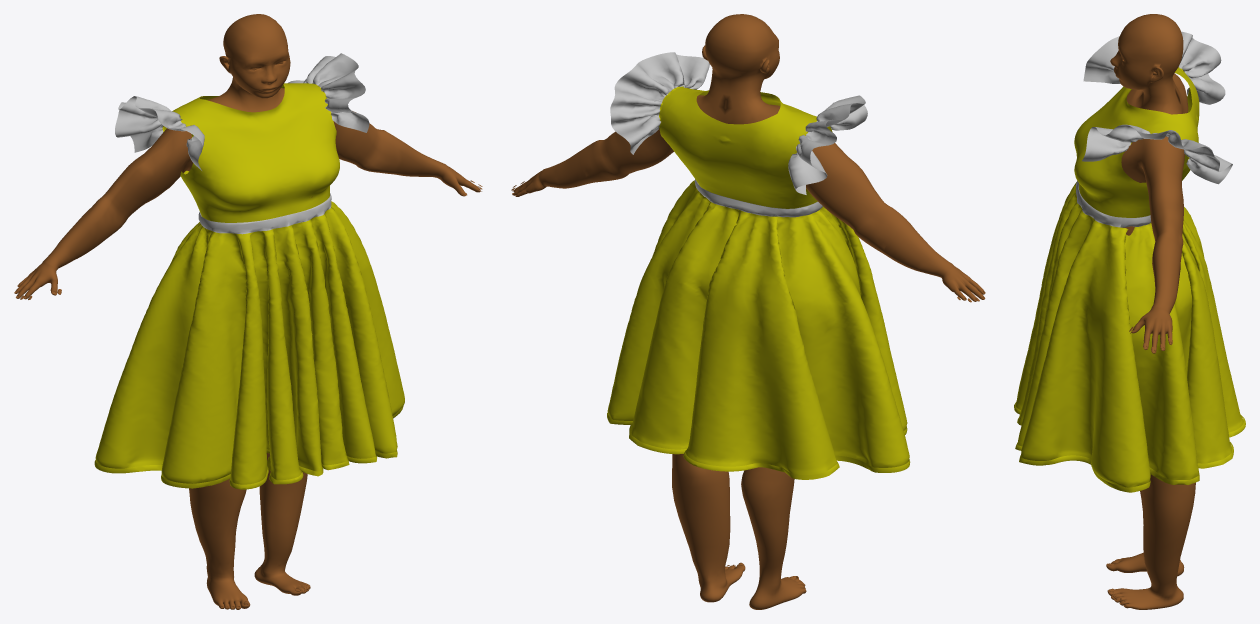
File: dress10.glb
3 renders of one model, left to right at view 1: azimuth 30°, elevation 25°; view 2: azimuth 150°, elevation 25°; view 3: azimuth 270°, elevation 25°, orthographic.
Visible parts, largest first — view 1: PinkDrees#14 (OBJ), Body; view 2: PinkDrees#14 (OBJ), Body; view 3: PinkDrees#14 (OBJ), Body.
Part boxes in pixels (box(x1,y1,x2,y2)): PinkDrees#14 (OBJ): box(94, 53, 404, 489); Body: box(14, 14, 481, 609); PinkDrees#14 (OBJ): box(607, 52, 910, 479); Body: box(512, 14, 985, 609); PinkDrees#14 (OBJ): box(1014, 31, 1245, 492); Body: box(1106, 14, 1195, 609).
Size of the model in its own units: 1.59 by 1.88 by 0.6849.
